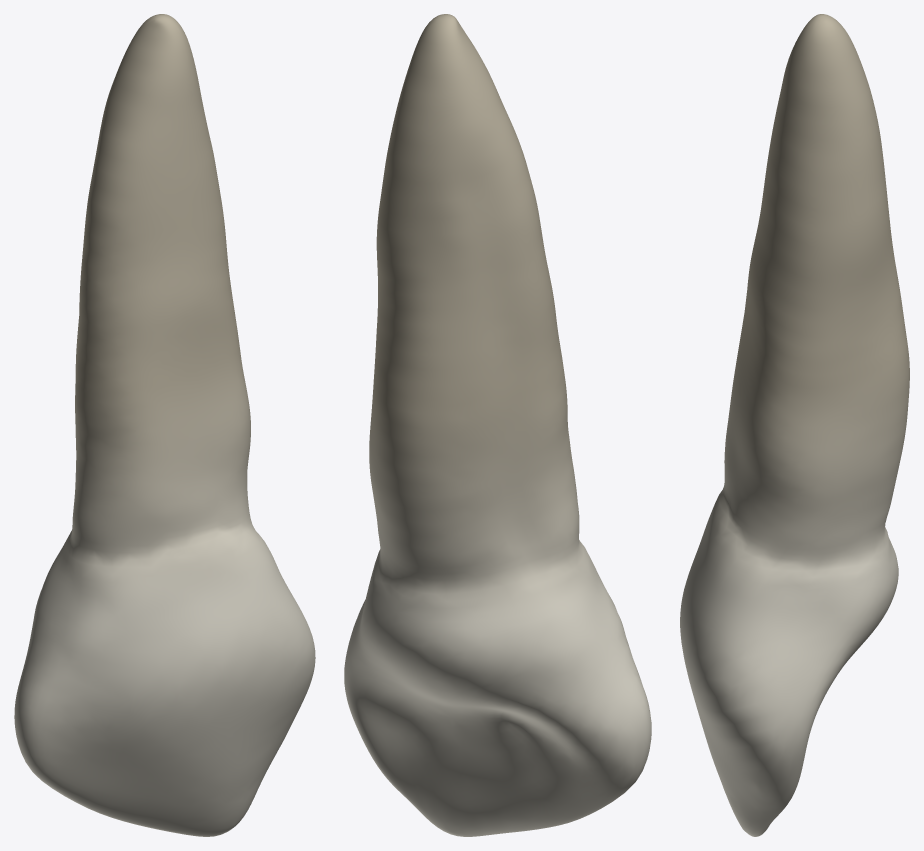
3 views of the same model, side by side, from view 1: azimuth 30°, elevation 25°; view 2: azimuth 150°, elevation 25°; view 3: azimuth 270°, elevation 25° (orthographic). The views are drawn at different scales.
Parts seen in each view (by area): view 1: Tooth_63_0; view 2: Tooth_63_0; view 3: Tooth_63_0.
Part boxes in pixels (x1,y1,x2,y2): Tooth_63_0: (14, 14, 315, 836); Tooth_63_0: (344, 14, 651, 836); Tooth_63_0: (680, 14, 909, 836).
Size of the model in its own units: 0.72 by 1.95 by 0.5026.
